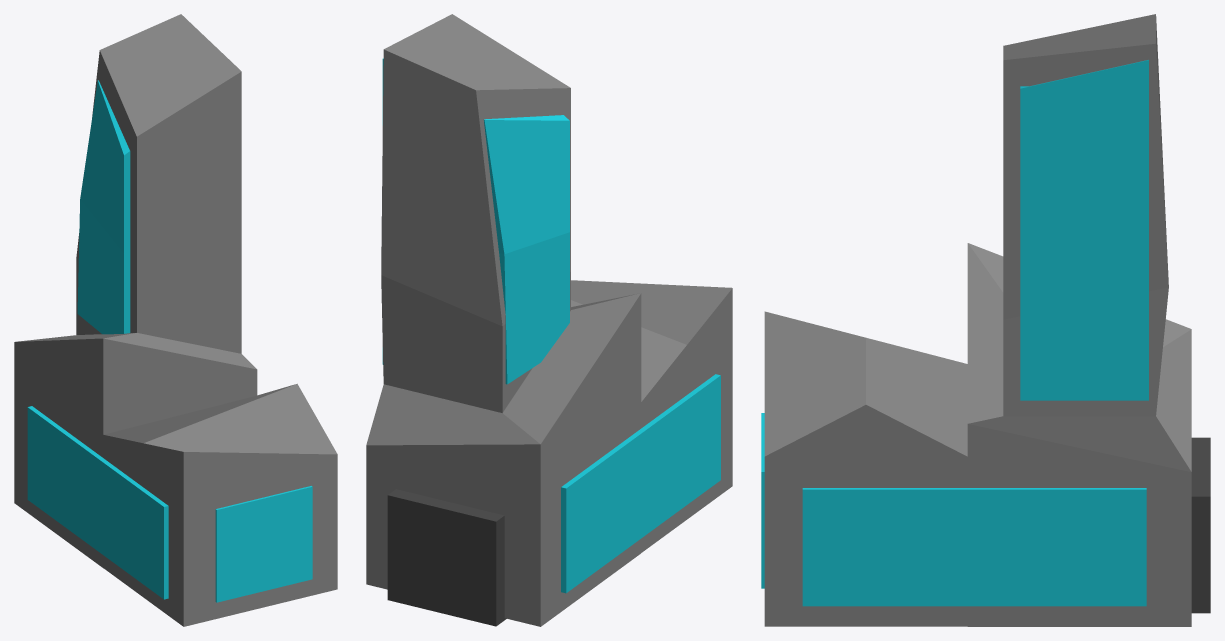
Rendered from Building7.fbx.
The picture shows the model from 3 angles, left to right: view 1: azimuth 30°, elevation 25°; view 2: azimuth 150°, elevation 25°; view 3: azimuth 270°, elevation 25°; orthographic projection. The views are drawn at different scales.
Parts seen in each view (by area): view 1: Cube, Cube.001, Cube.006, Cube.003; view 2: Cube, Cube.006, Cube.001, Cube.004; view 3: Cube, Cube.005, Cube.002, Cube.004, Cube.003.
Boxes of the visible parts, x1,y1,x2,y2 form: Cube: (14,14,337,626); Cube.001: (27,406,168,599); Cube.006: (77,80,130,334); Cube.003: (215,486,312,602); Cube: (366,14,732,626); Cube.006: (484,115,569,384); Cube.001: (561,374,720,593); Cube.004: (387,489,506,626); Cube: (764,14,1191,626); Cube.005: (1020,60,1148,400); Cube.002: (802,488,1146,606); Cube.004: (1191,437,1210,613); Cube.003: (761,413,764,588).
Size of the model in its own units: 594 by 1636 by 1139.
